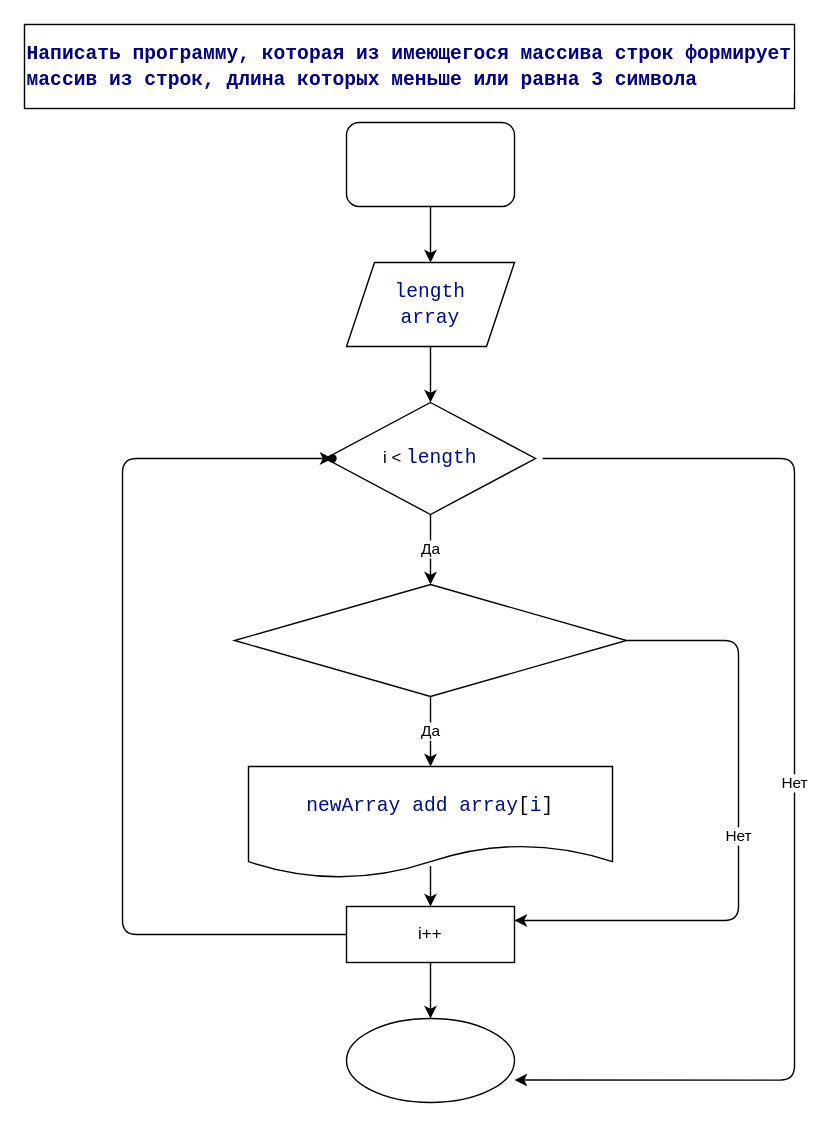
This 832x1127 diagram has some shape labels left out. Each missing label, with the centre of its shape:
длина строки array [ i ] < = 3: (x=429, y=639)
Конец: (x=429, y=1059)
Начало: (x=429, y=163)
